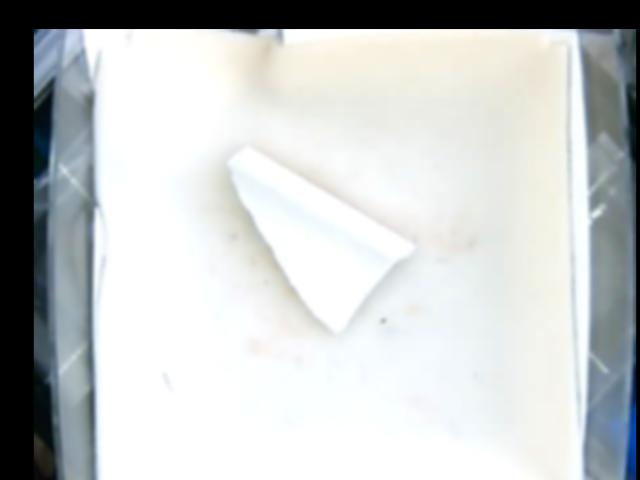China: (225, 146, 411, 332)
